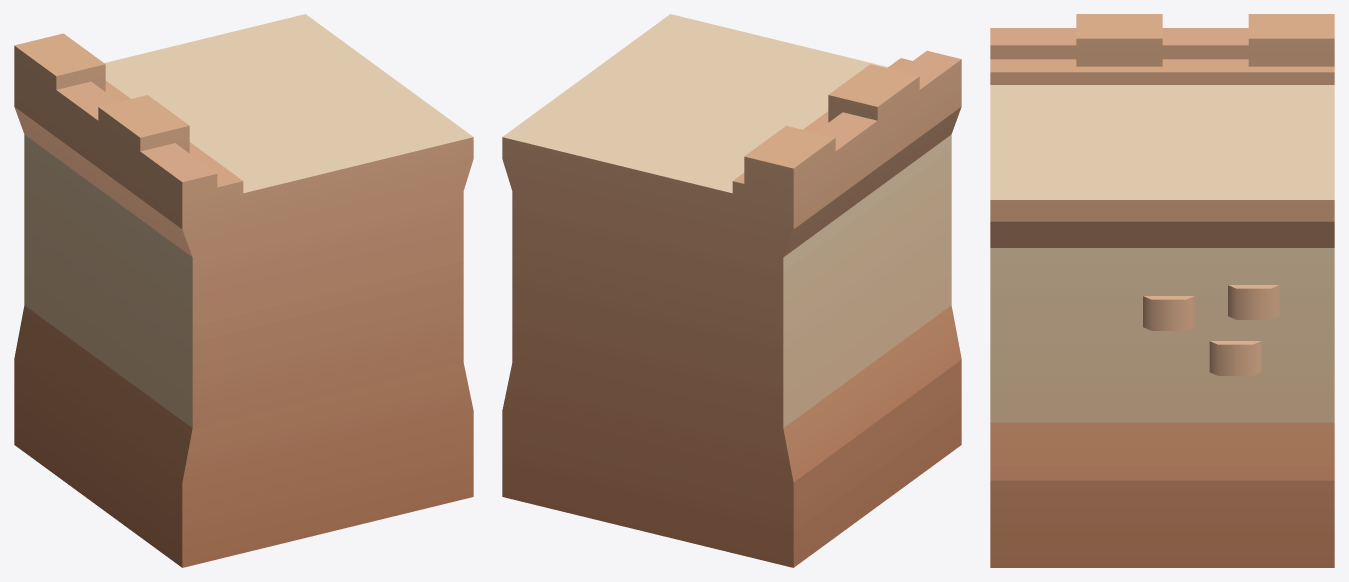
The model's file is k-castle-wall-half.glb.
3 renders of one model, left to right at view 1: azimuth 30°, elevation 25°; view 2: azimuth 150°, elevation 25°; view 3: azimuth 270°, elevation 25°, orthographic. The views are drawn at different scales.
Parts seen in each view (by area): view 1: wall-half; view 2: wall-half; view 3: wall-half.
Part boxes in pixels (<box>): wall-half: <box>14,14,473,567</box>; wall-half: <box>502,14,961,567</box>; wall-half: <box>990,14,1334,567</box>.
Size of the model in its own units: 1 by 1.31 by 1.
Materials: 1 (1 with a texture image).
